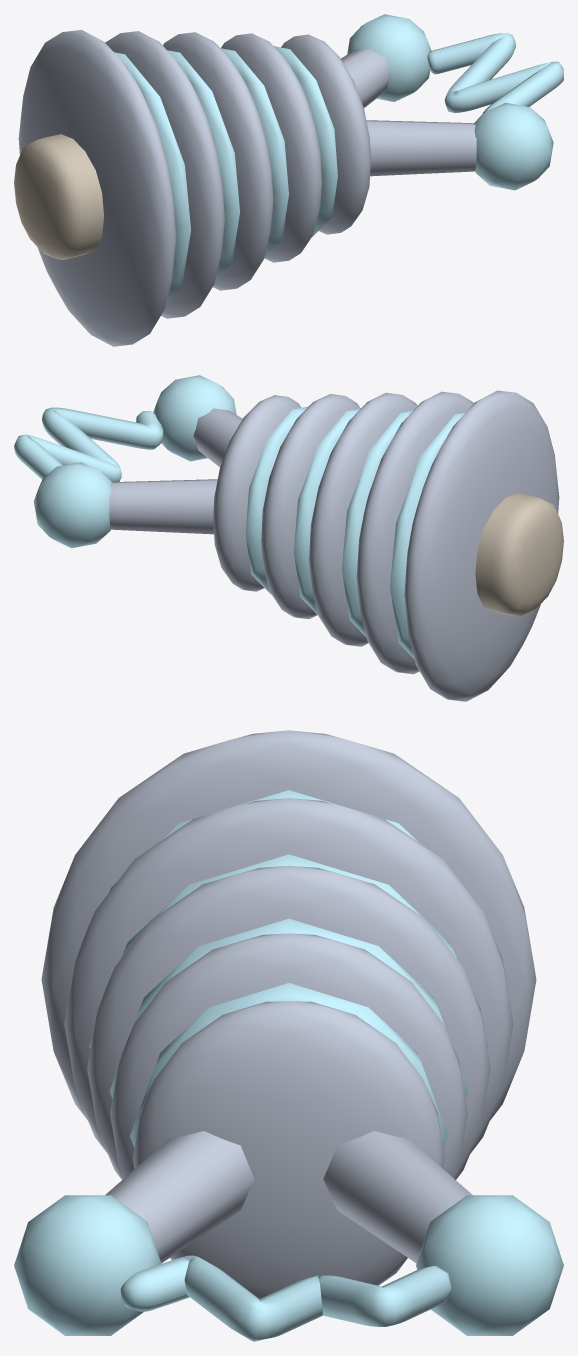
File: cell.electrocyte.glb
3 renders of one model, top to bottom at view 1: azimuth 30°, elevation 25°; view 2: azimuth 150°, elevation 25°; view 3: azimuth 270°, elevation 25°, orthographic. The views are drawn at different scales.
Parts seen in each view (by area): view 1: Plate, Spark, Skin; view 2: Plate, Spark, Skin; view 3: Plate, Spark.
Part boxes in pixels (x1,y1,x2,y2): Plate: (18,30,476,346); Spark: (114,14,563,303); Skin: (14,134,103,259); Plate: (109,390,559,701); Spark: (14,375,464,659); Skin: (475,493,563,616); Plate: (41,730,536,1298); Spark: (14,790,563,1341).
Bounding box in the file's own units: 0.4728 × 0.26 × 0.26.
